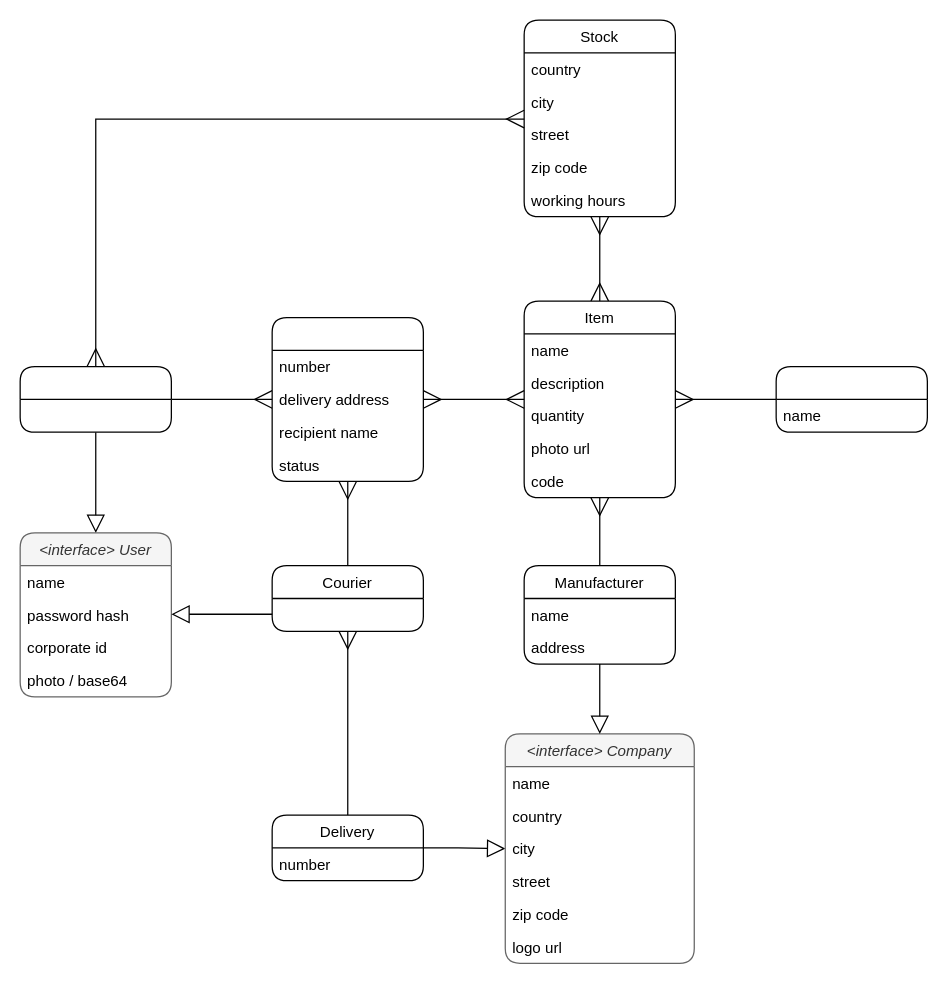
This 948x984 diagram has some shape labels left out. Each missing label, with the box of its shape:
Category: (775, 365, 927, 432)
Employe: (19, 365, 171, 432)
Order: (271, 316, 423, 481)
